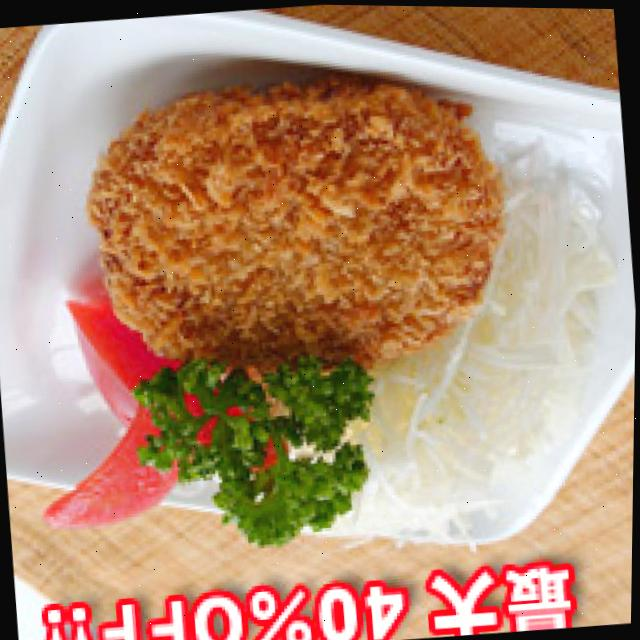炸货点心: (73, 46, 536, 410)
